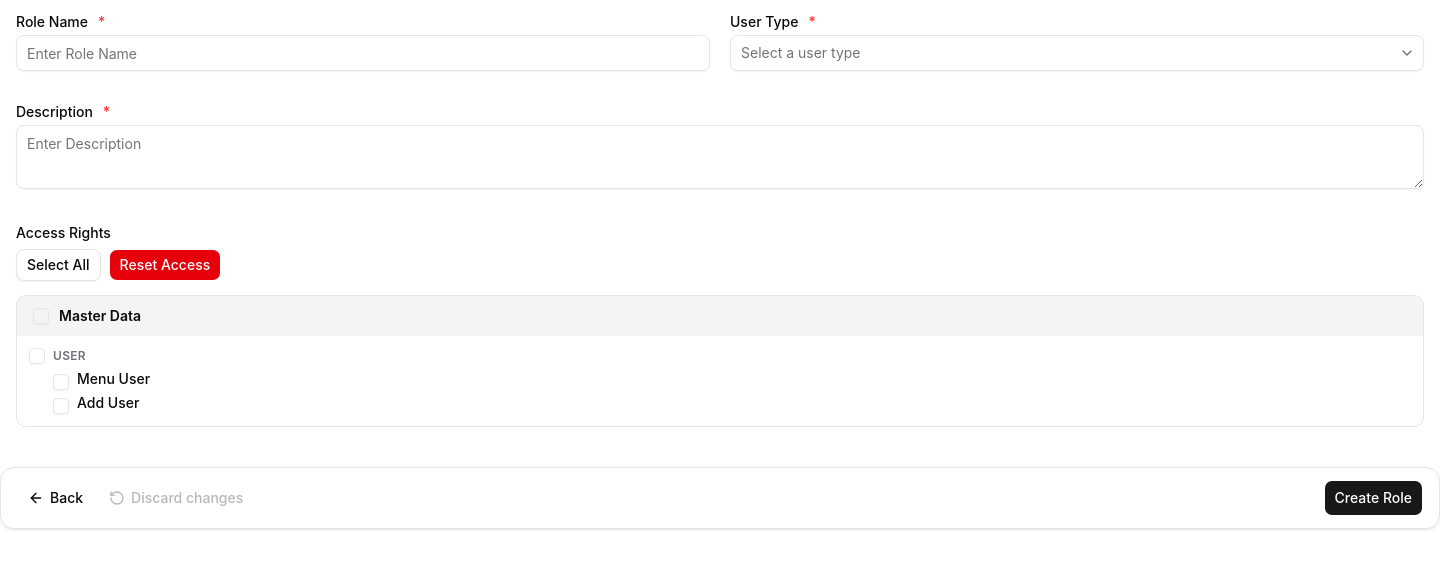
RoleForm — create › blocks submission and reports the required fields when empty
Step 1. Click the button "Create Role" → (1373, 498), box [1324,480,1423,516]
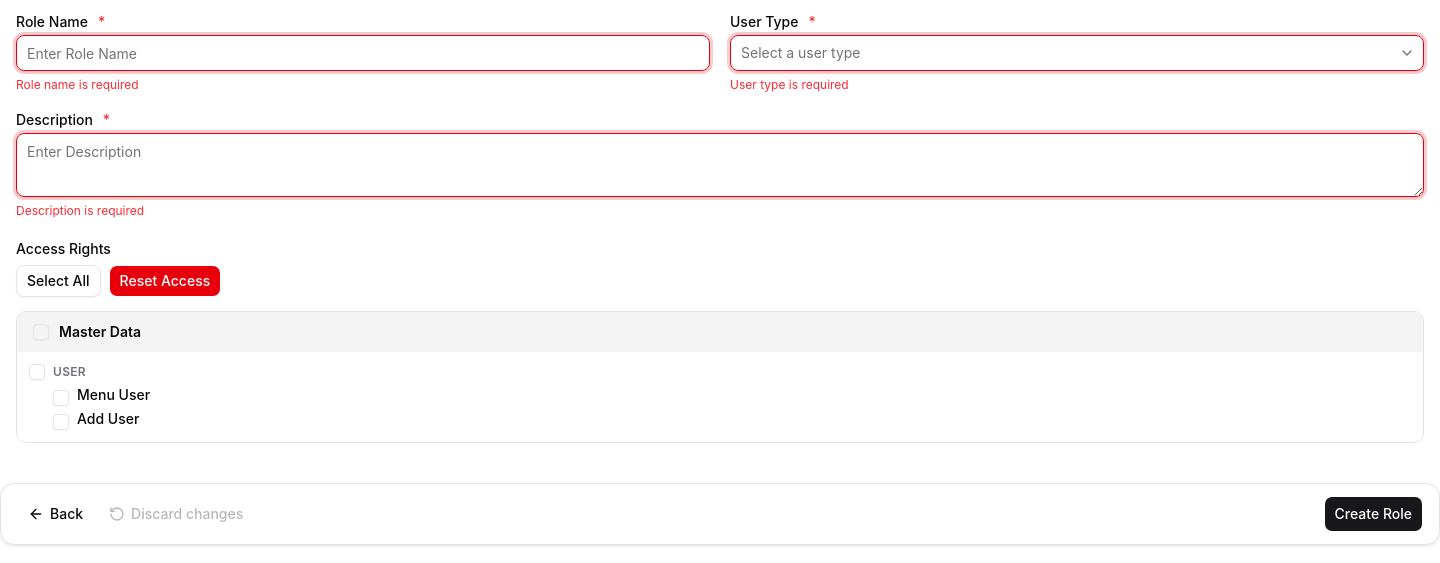
Now the text "Role name is required" is shown, box [16,77,139,92]
Now the text "User type is required" is shown, box [730,77,849,92]
Now the text "Description is required" is shown, box [16,203,144,218]
